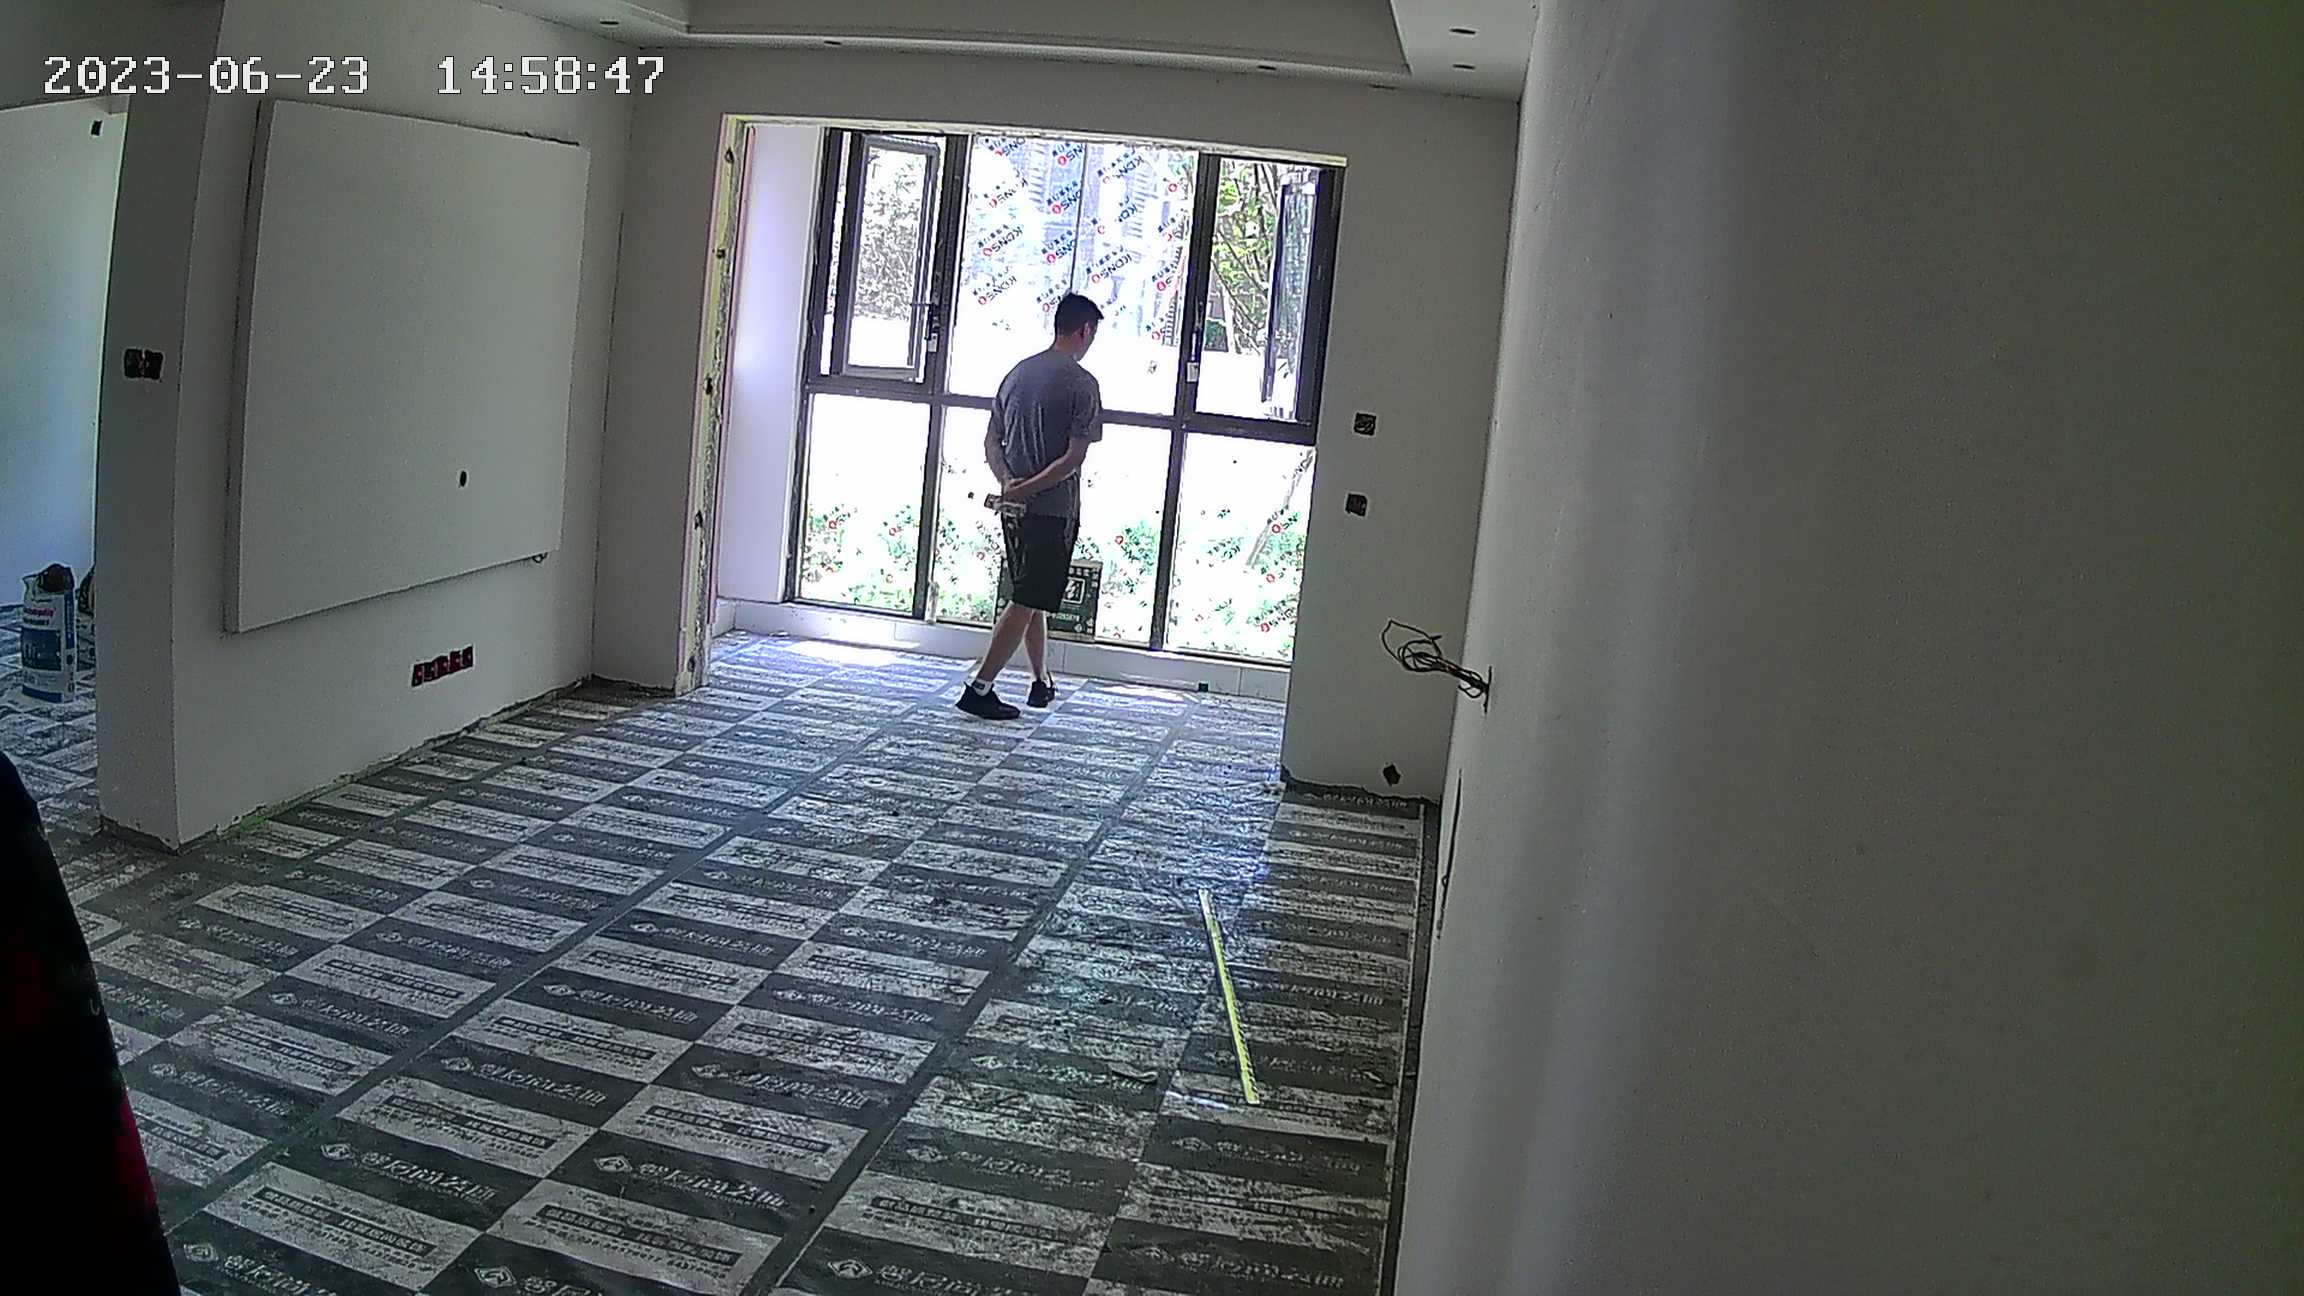people: (964, 291, 1105, 727)
window: (795, 118, 1308, 688)
